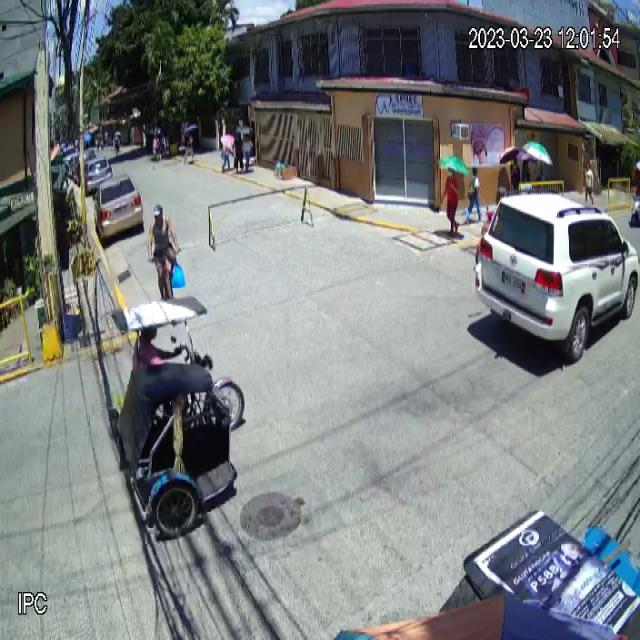Car: (473, 192, 640, 362)
Tricycle: (108, 296, 245, 540)
